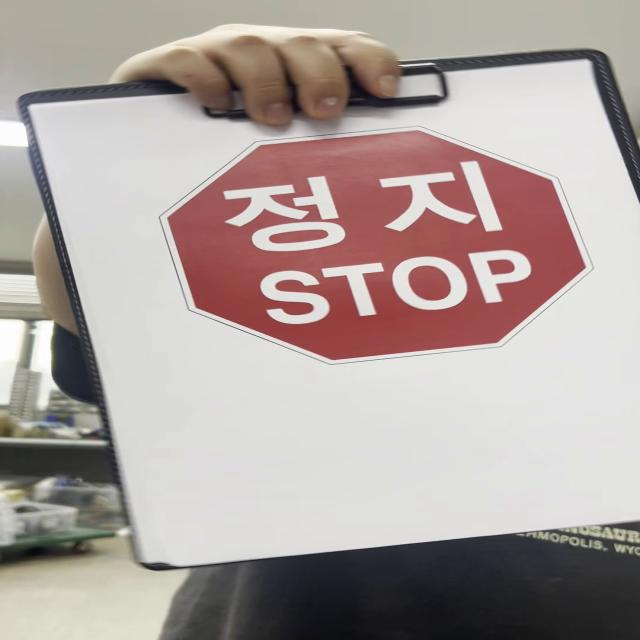stop: (158, 125, 592, 368)
